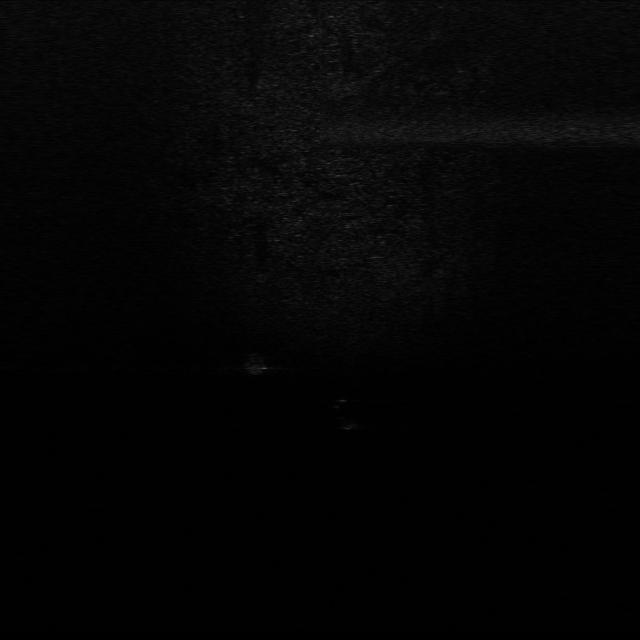ball: (247, 263, 276, 286)
circle cage: (233, 348, 276, 378)
tyre: (324, 393, 366, 432)
